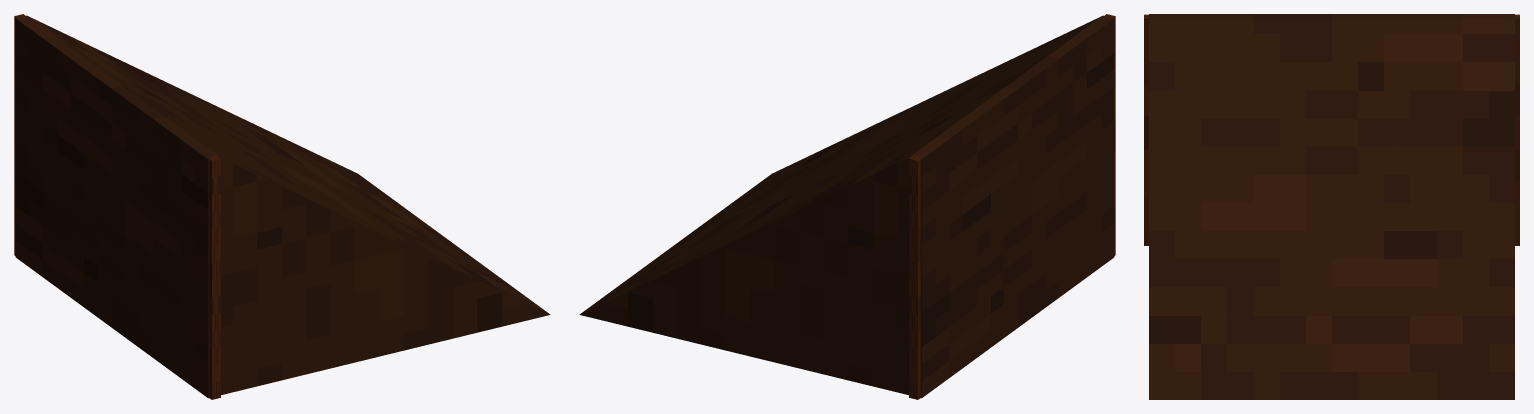
The model's file is refugio.glb.
3 renders of one model, left to right at view 1: azimuth 30°, elevation 25°; view 2: azimuth 150°, elevation 25°; view 3: azimuth 270°, elevation 25°, orthographic. The views are drawn at different scales.
Parts seen in each view (by area): view 1: lona, palos; view 2: lona, palos; view 3: lona, palos.
Part boxes in pixels (x1,y1,x2,y2): lona: (15,15,550,398); palos: (14,14,220,399); lona: (579,15,1114,398); palos: (909,14,1115,399); lona: (1149,14,1514,399); palos: (1144,14,1519,245).
Bounding box in the file's own units: 3 × 2 × 3.
1 material, 1 textured.
